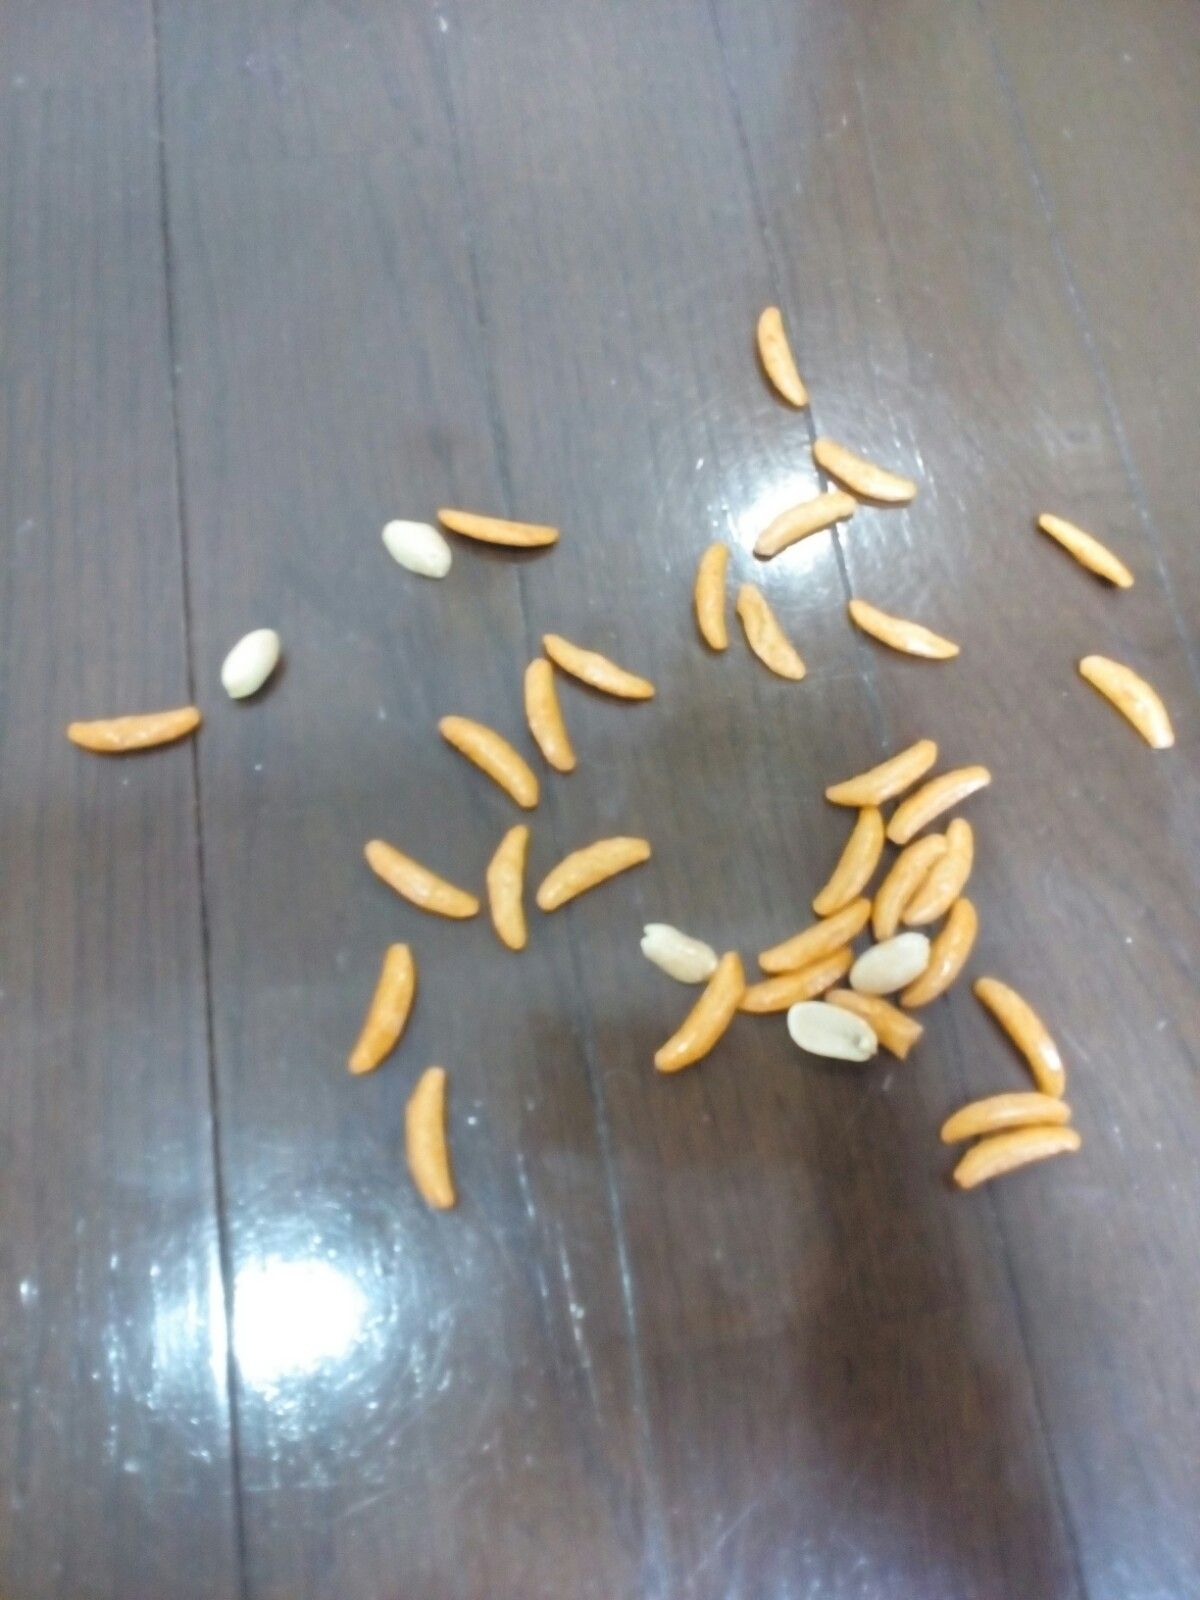peanut: (776, 989, 892, 1070), (632, 910, 729, 991), (373, 501, 458, 590), (841, 923, 942, 995), (221, 621, 290, 708)
